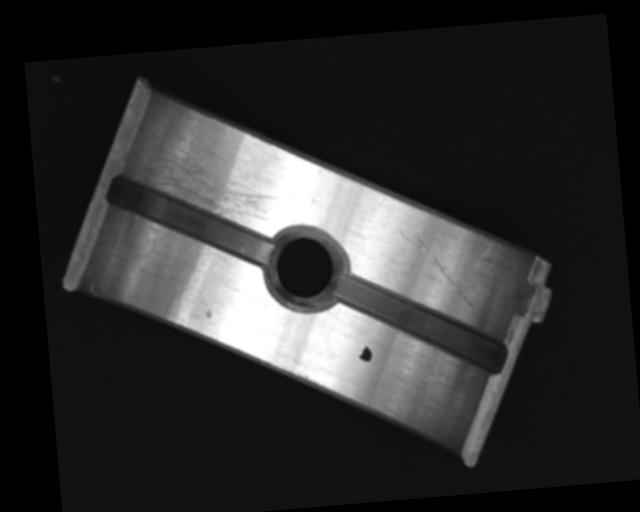blot: (356, 344, 372, 363)
bruise: (204, 308, 212, 319)
gap: (335, 261, 509, 387), (106, 164, 274, 278)
hole: (264, 223, 347, 312)
nick: (398, 224, 477, 317)
scratch: (128, 119, 292, 234)
